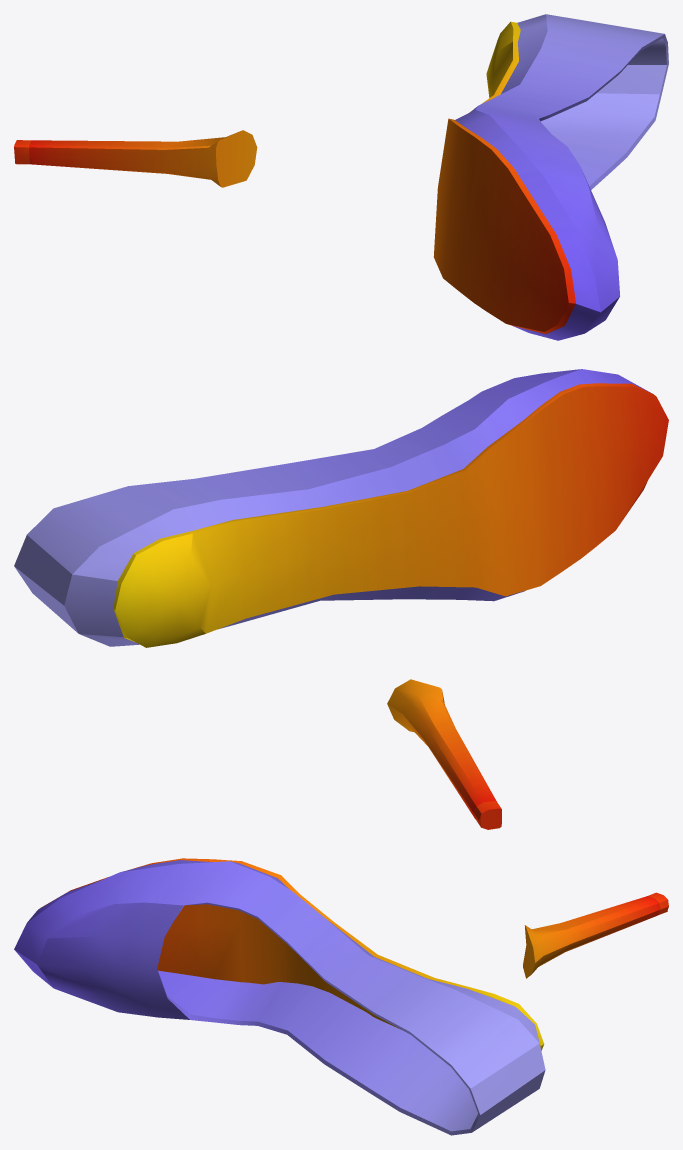
Rendered from brokenShoe.glb.
3 renders of one model, top to bottom at view 1: azimuth 30°, elevation 25°; view 2: azimuth 150°, elevation 25°; view 3: azimuth 270°, elevation 25°, orthographic. The views are drawn at different scales.
Parts seen in each view (by area): view 1: polySurface3, heel, heel.001; view 2: heel, polySurface3, heel.001; view 3: polySurface3, heel, heel.001.
Part boxes in pixels (<box>): polySurface3: <box>455,14,668,340</box>; heel: <box>433,21,575,334</box>; heel.001: <box>14,130,257,187</box>; heel: <box>113,383,668,647</box>; polySurface3: <box>14,369,650,646</box>; heel.001: <box>387,679,501,829</box>; polySurface3: <box>14,860,545,1135</box>; heel: <box>41,858,544,1050</box>; heel.001: <box>523,892,668,978</box>.
Bounding box in the file's own units: 0.6925 × 0.2049 × 0.7999.
1 material, 1 textured.
